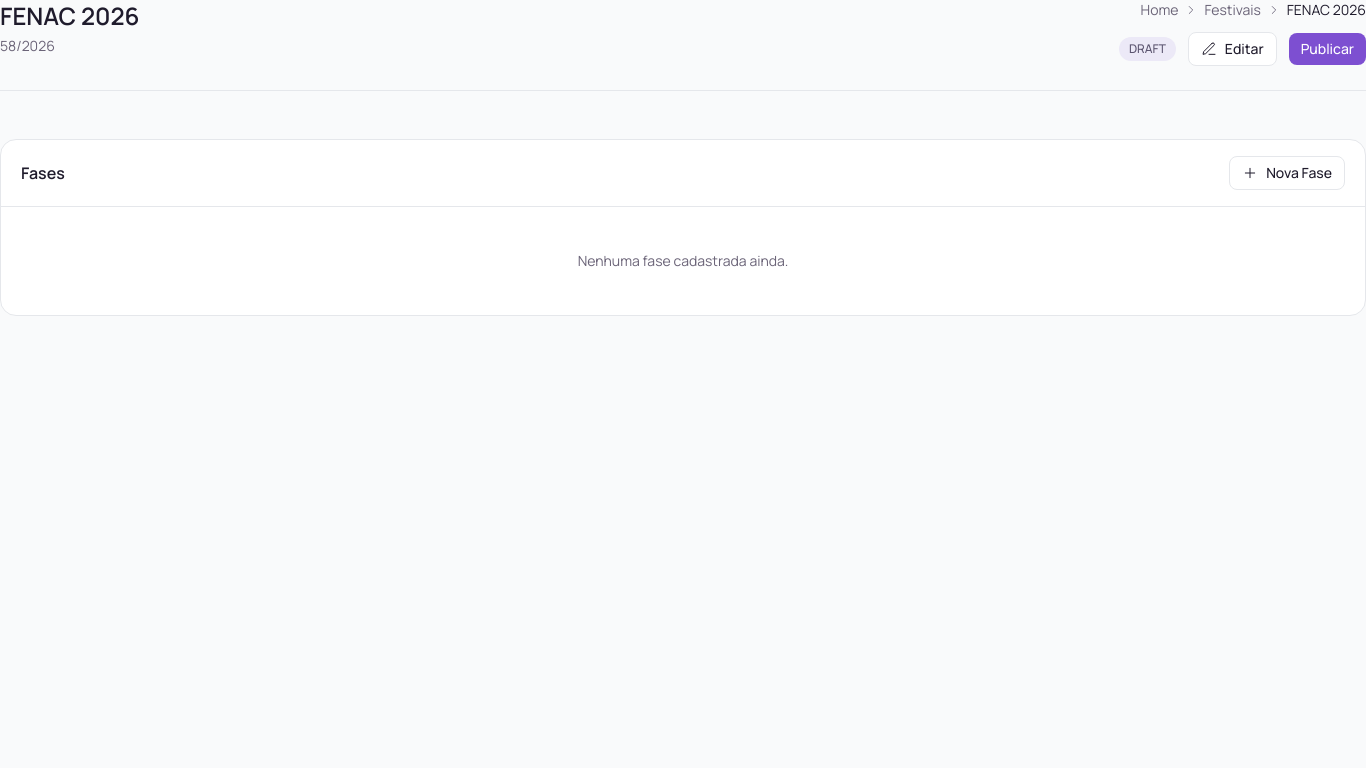
FestivalDetail › opens the Nova Fase modal from the stages card
This screenshot has width=1366, height=768.
Expected: the heading "FENAC 2026" is shown, top-left (0, 0), bottom-right (139, 32)
Click the button "Nova Fase".
click(1287, 173)  # box top-left (1229, 156), bottom-right (1345, 190)
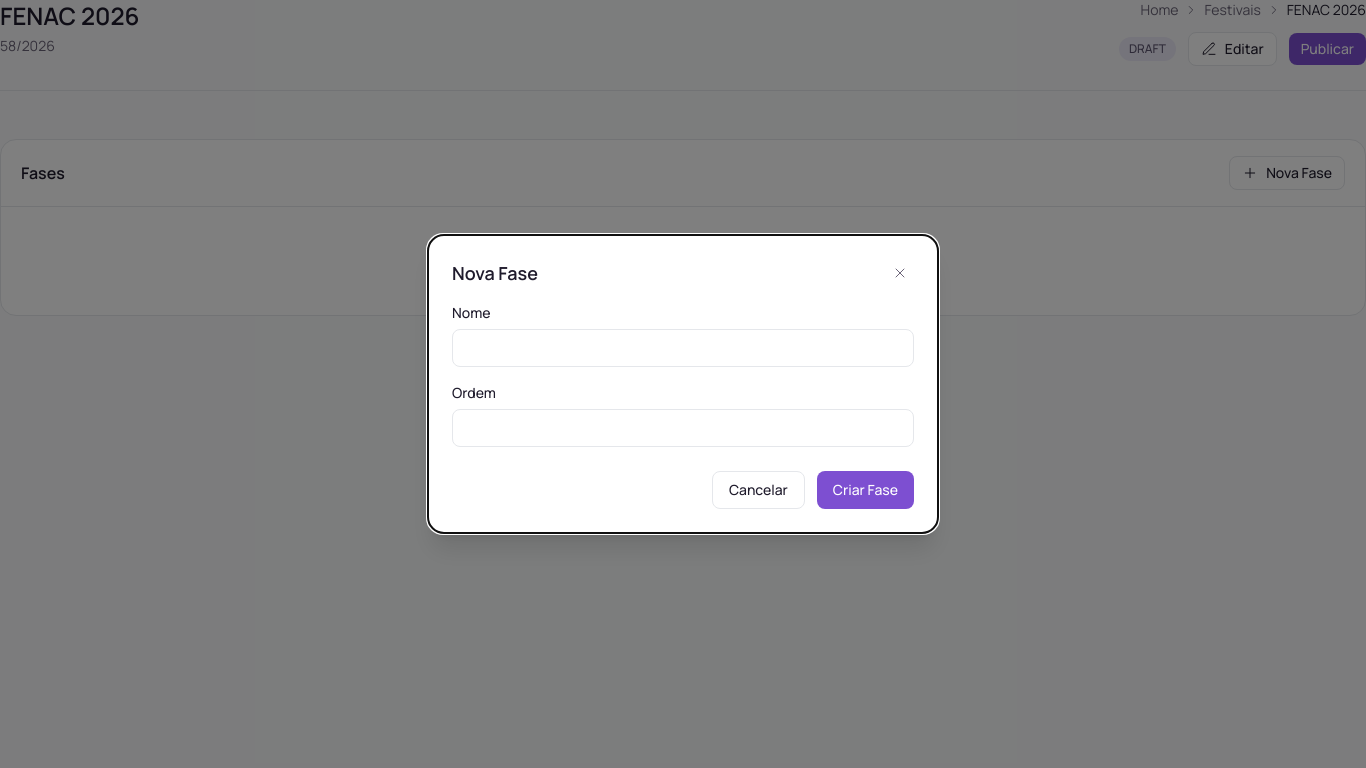
Expected: the dialog "Nova Fase" is shown, top-left (427, 234), bottom-right (939, 534)
